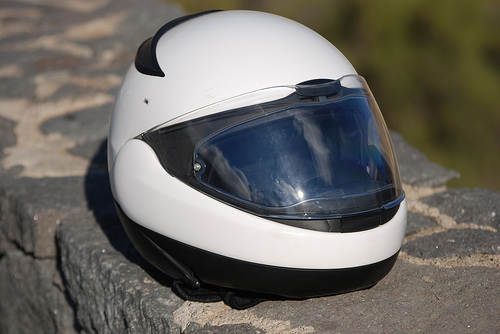helmet: (101, 10, 404, 296)
